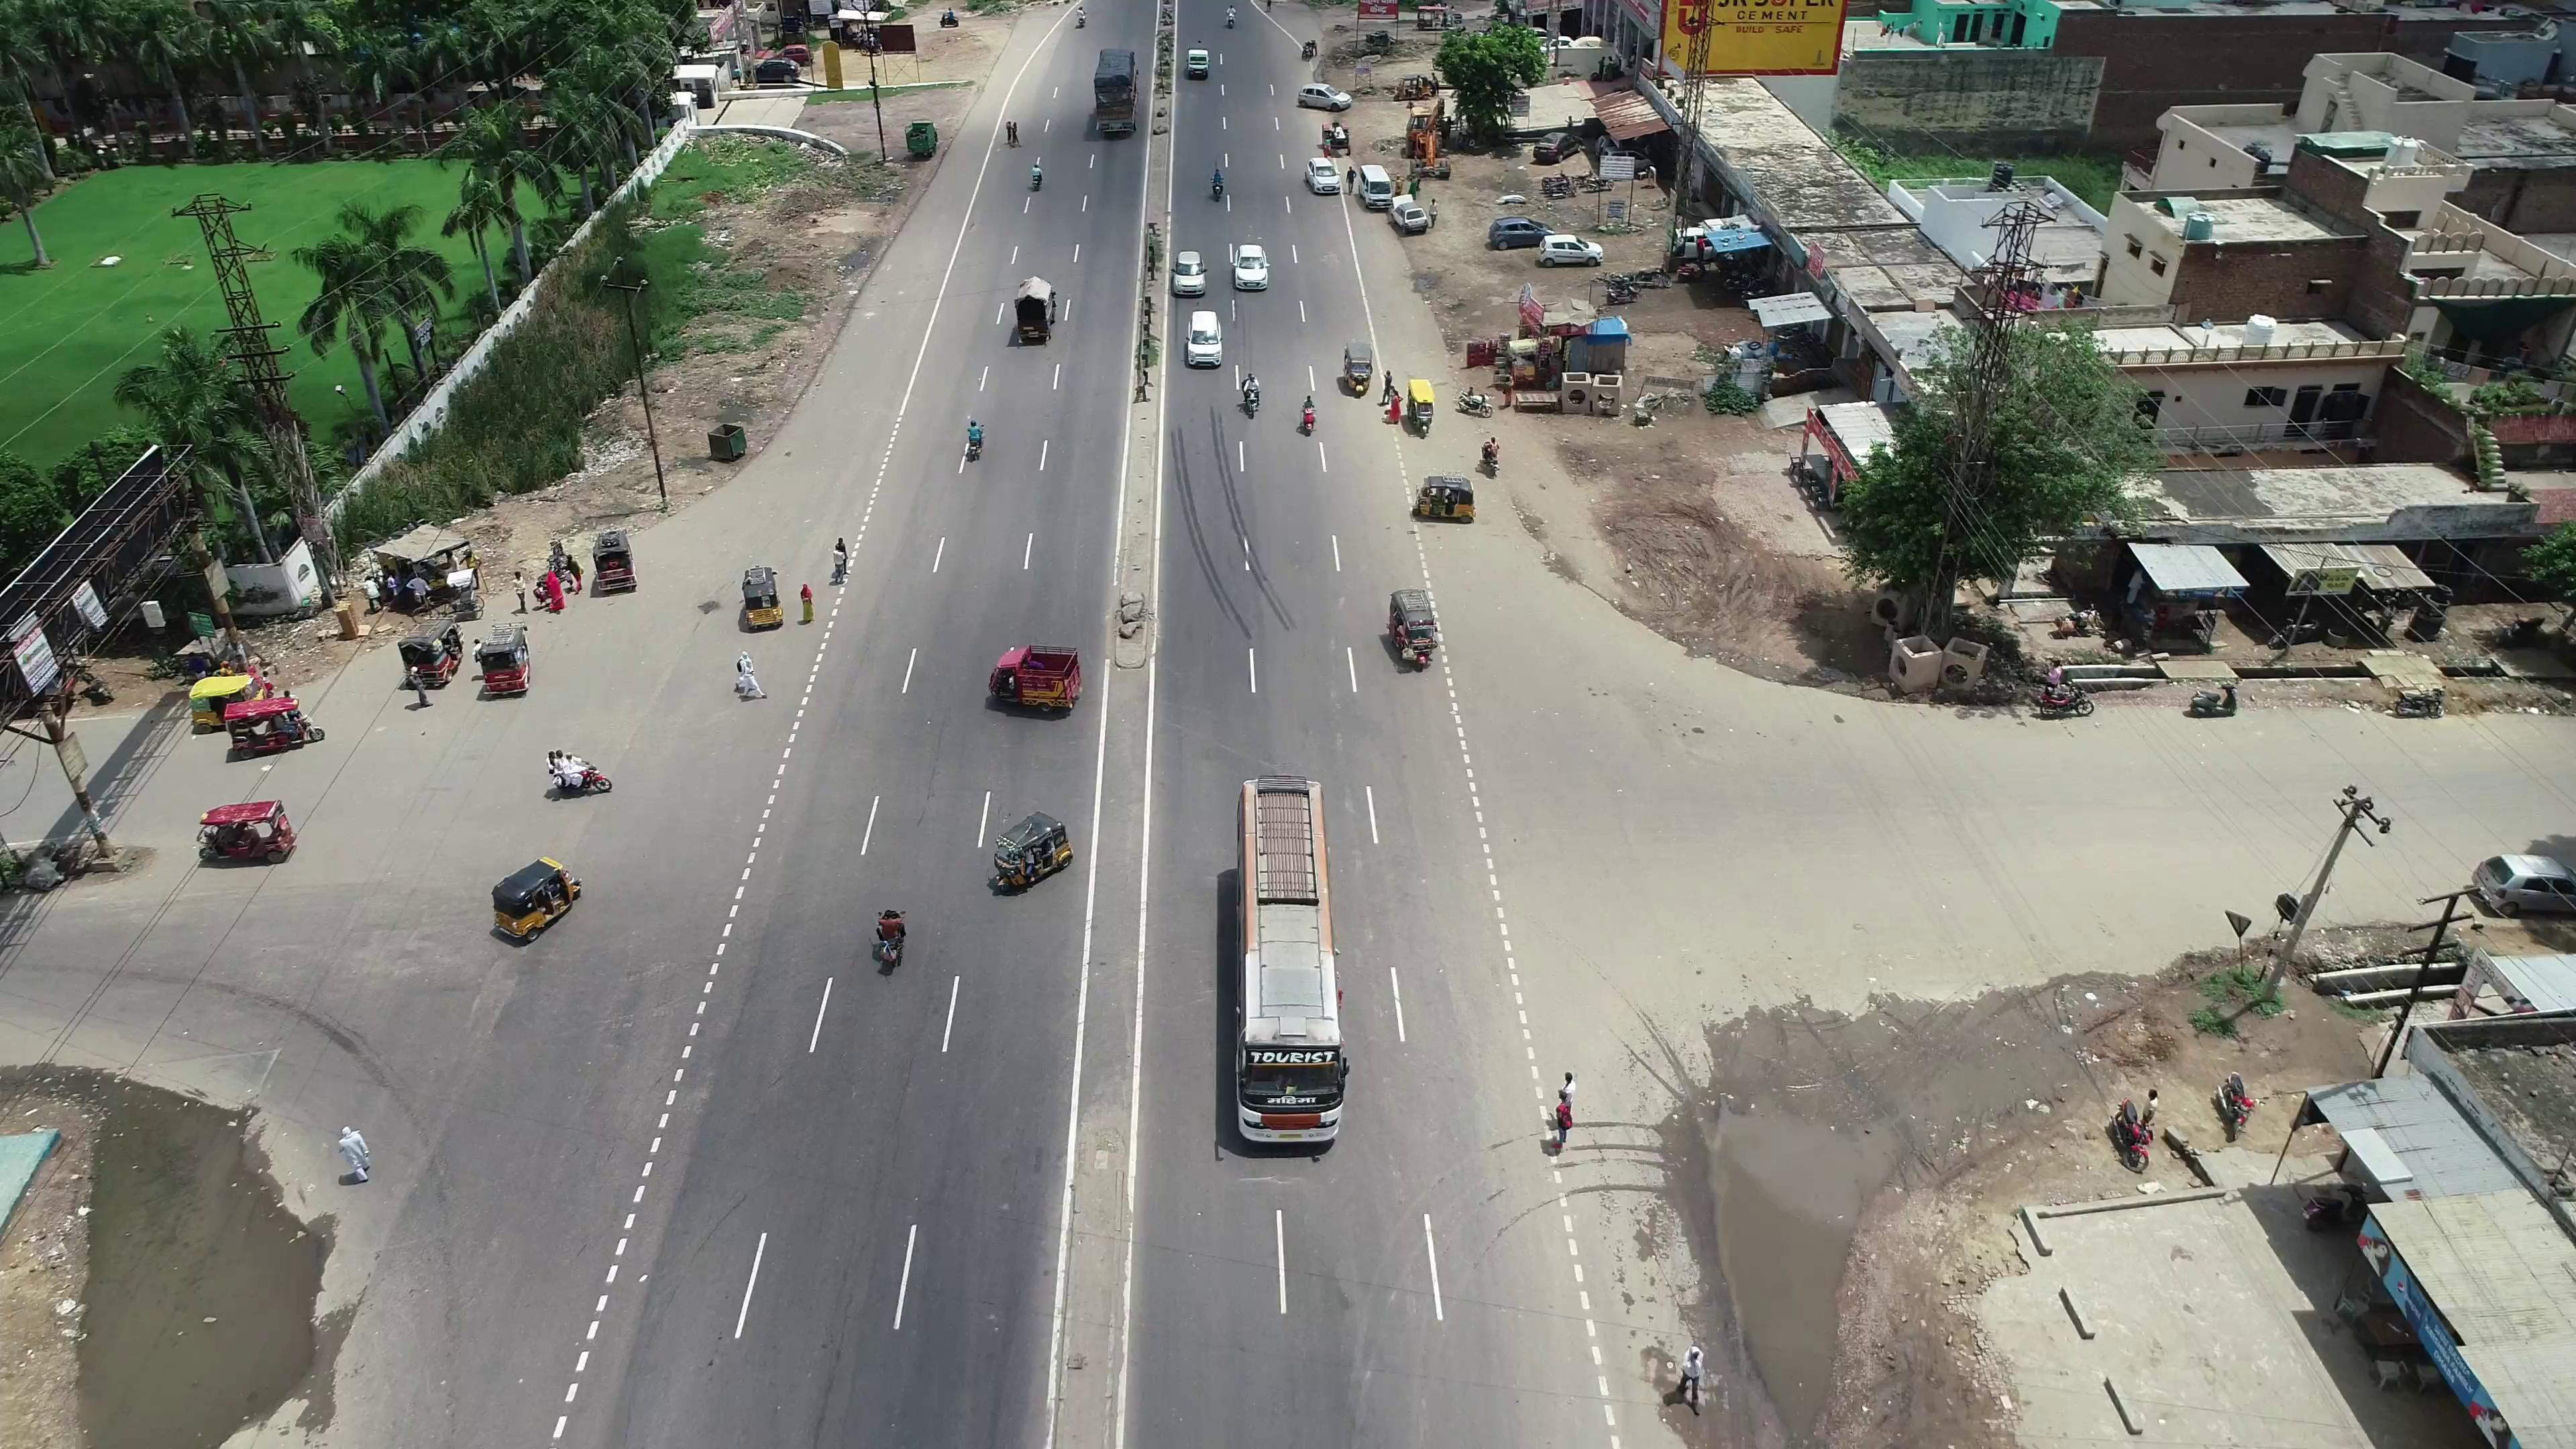Waterlogging: (94, 1092, 315, 1442), (1697, 1092, 1833, 1394)
